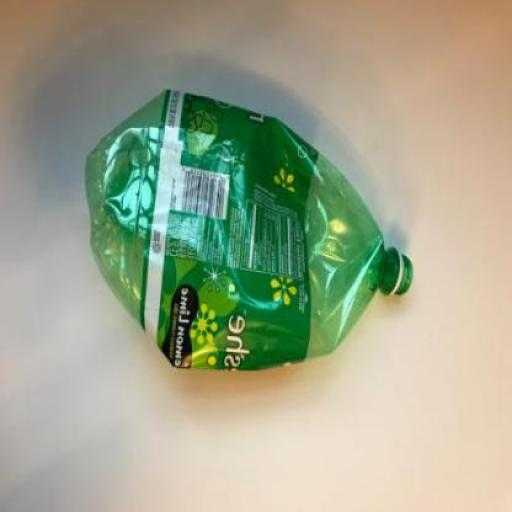plastic: (87, 88, 413, 370), (142, 89, 320, 370)
